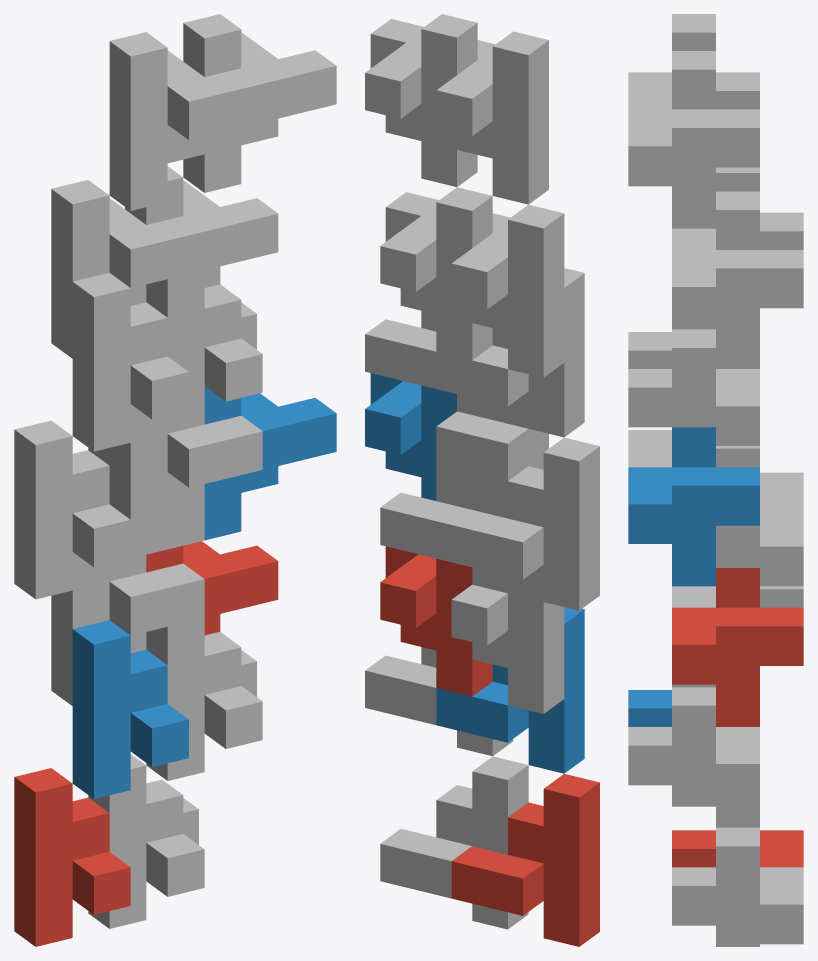
File: tiling.obj
3 views of the same model, side by side, from view 1: azimuth 30°, elevation 25°; view 2: azimuth 150°, elevation 25°; view 3: azimuth 270°, elevation 25° (orthographic). The views are drawn at different scales.
Visible parts, largest first — view 1: copy_2_domain_4, copy_1_domain_4, copy_1_domain_3, copy_1_domain_2, copy_1_domain_1, copy_2_domain_3, copy_2_domain_2, copy_2_domain_8, copy_1_domain_6, copy_1_domain_8, copy_1_domain_5, copy_2_domain_1 (+4 smaller); view 2: copy_1_domain_1, copy_1_domain_3, copy_2_domain_3, copy_2_domain_4, copy_2_domain_7, copy_2_domain_8, copy_1_domain_5, copy_2_domain_1, copy_1_domain_7, copy_1_domain_4, copy_1_domain_2, copy_2_domain_5 (+4 smaller); view 3: copy_2_domain_8, copy_2_domain_7, copy_2_domain_5, copy_2_domain_6, copy_1_domain_5, copy_1_domain_6, copy_1_domain_8, copy_1_domain_7, copy_2_domain_4, copy_2_domain_3, copy_1_domain_1, copy_2_domain_2 (+4 smaller).
Part boxes in pixels (box(x1,y1,x2,y2)): copy_2_domain_4: box(109, 32, 262, 210); copy_1_domain_4: box(72, 272, 188, 451); copy_1_domain_3: box(14, 420, 130, 599); copy_1_domain_2: box(72, 620, 188, 798); copy_1_domain_1: box(14, 768, 130, 946); copy_2_domain_3: box(51, 180, 204, 358); copy_2_domain_2: box(109, 404, 262, 558); copy_2_domain_8: box(183, 14, 336, 192); copy_1_domain_6: box(146, 617, 262, 780); copy_1_domain_8: box(146, 270, 262, 433); copy_1_domain_5: box(88, 754, 204, 928); copy_2_domain_1: box(51, 552, 204, 705); copy_1_domain_1: box(451, 774, 599, 946); copy_1_domain_3: box(451, 437, 599, 610); copy_2_domain_3: box(451, 204, 564, 377); copy_2_domain_4: box(436, 31, 548, 204); copy_2_domain_7: box(380, 187, 492, 360); copy_2_domain_8: box(365, 14, 477, 186); copy_1_domain_5: box(380, 756, 528, 929); copy_2_domain_1: box(451, 565, 564, 713); copy_1_domain_7: box(380, 420, 528, 593); copy_1_domain_4: box(436, 268, 584, 437); copy_1_domain_2: box(436, 607, 584, 773); copy_2_domain_5: box(380, 546, 492, 696); copy_2_domain_8: box(628, 51, 759, 228); copy_2_domain_7: box(672, 191, 803, 368); copy_2_domain_5: box(672, 568, 803, 726); copy_2_domain_6: box(628, 427, 759, 586); copy_1_domain_5: box(672, 803, 803, 946); copy_1_domain_6: box(628, 684, 759, 806); copy_1_domain_8: box(628, 326, 759, 445); copy_1_domain_7: box(716, 509, 803, 586); copy_2_domain_4: box(628, 14, 759, 109); copy_2_domain_3: box(672, 167, 803, 249); copy_1_domain_1: box(672, 830, 803, 867); copy_2_domain_2: box(628, 430, 759, 467).
Size of the model in its own units: 7 by 23 by 4.
